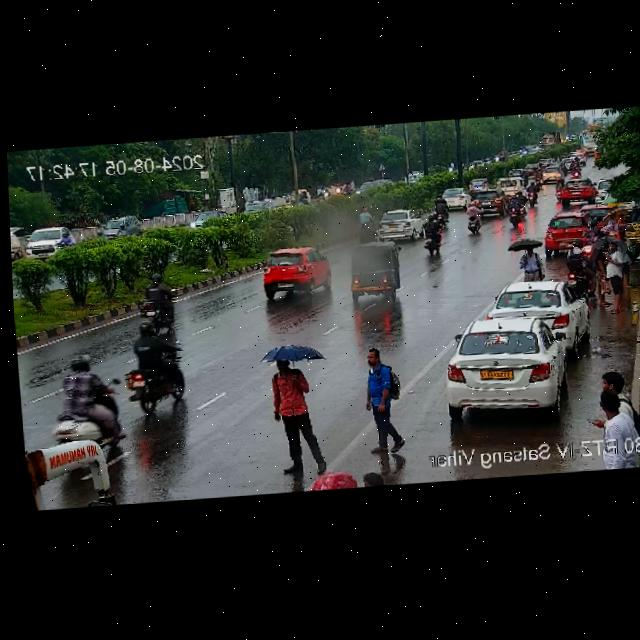car: (436, 313, 569, 418), (493, 276, 588, 343), (255, 244, 329, 300), (342, 242, 402, 303), (543, 212, 590, 251), (374, 210, 430, 242), (20, 225, 66, 262), (88, 214, 139, 240), (559, 179, 595, 204), (439, 185, 472, 209), (468, 188, 504, 210), (495, 175, 527, 194), (537, 162, 564, 183), (10, 224, 25, 261)
motorcycle: (119, 318, 194, 410), (41, 394, 130, 451), (48, 354, 124, 409), (130, 274, 184, 332), (565, 236, 592, 284), (417, 219, 444, 257), (560, 146, 591, 175), (353, 204, 374, 242), (504, 195, 526, 225), (428, 198, 450, 227), (463, 204, 482, 234), (562, 158, 589, 179), (519, 181, 538, 206), (581, 218, 600, 241)
person: (352, 341, 400, 459), (271, 358, 309, 472), (587, 386, 634, 435), (307, 466, 387, 491), (606, 237, 630, 312), (518, 243, 549, 283), (593, 247, 611, 308), (596, 366, 624, 394), (606, 210, 619, 226), (616, 214, 627, 227)
